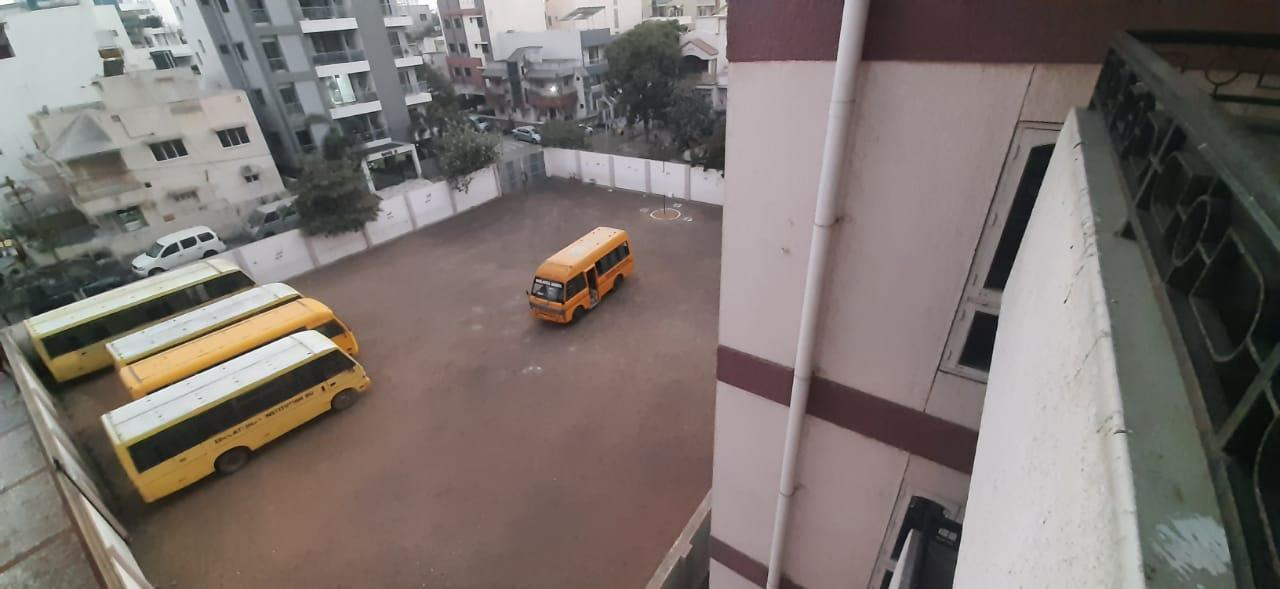Bus: (112, 356, 368, 468), (29, 257, 260, 354), (118, 309, 401, 374), (517, 219, 649, 339)
